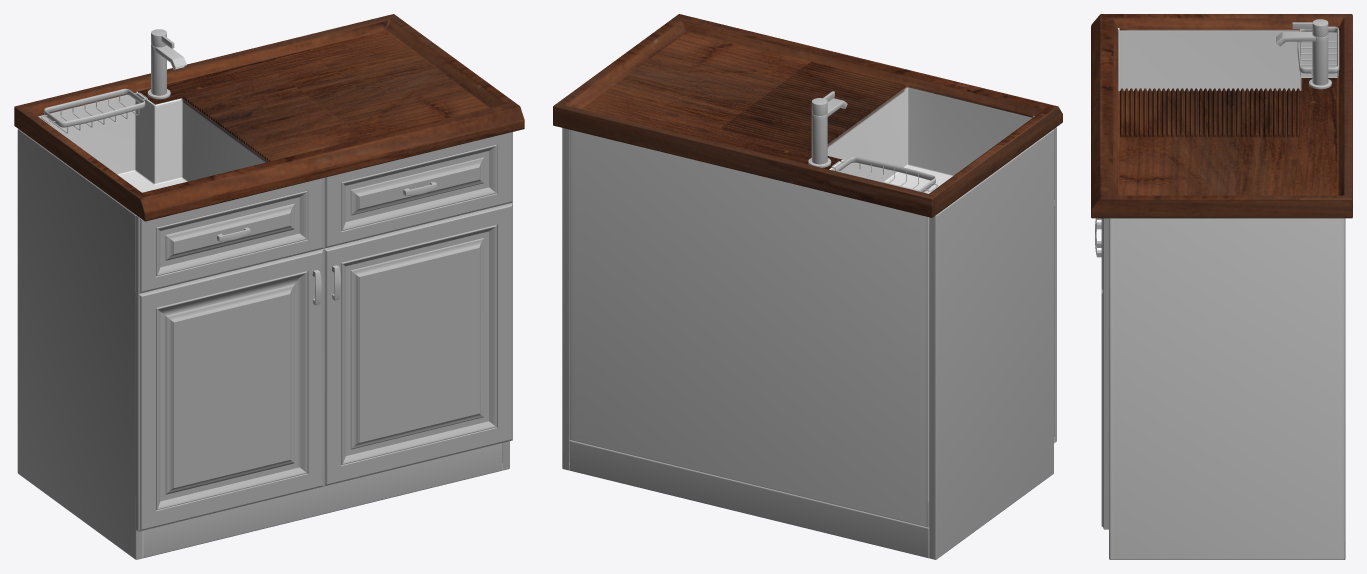
Rendered from visual_HighPoly_20_CounterWithSink.dae.
The picture shows the model from 3 angles, left to right: view 1: azimuth 30°, elevation 25°; view 2: azimuth 150°, elevation 25°; view 3: azimuth 270°, elevation 25°; orthographic projection.
Parts seen in each view (by area): view 1: SM_counter_sink_high; view 2: SM_counter_sink_high; view 3: SM_counter_sink_high.
Boxes of the visible parts, bbox=[...] form: SM_counter_sink_high: bbox=[14, 14, 524, 559]; SM_counter_sink_high: bbox=[553, 14, 1062, 559]; SM_counter_sink_high: bbox=[1091, 14, 1352, 559].
Size of the model in its own units: 104 by 61.95 by 109.
1 material, 1 textured.
